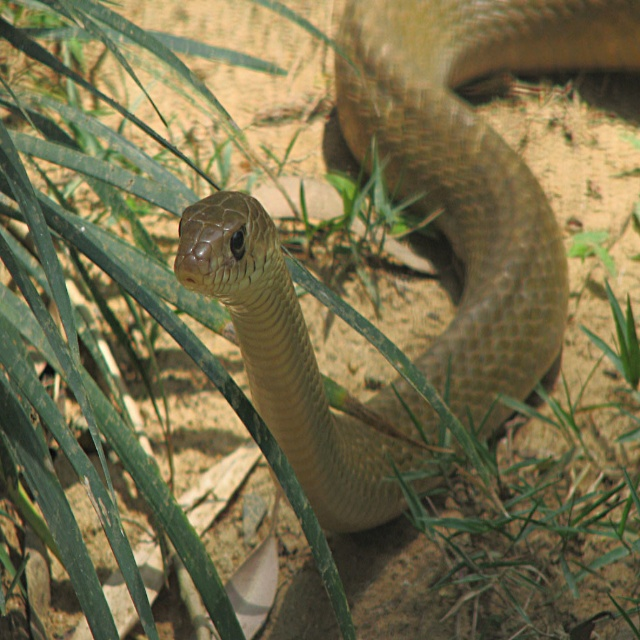Snake: (173, 0, 640, 535)
